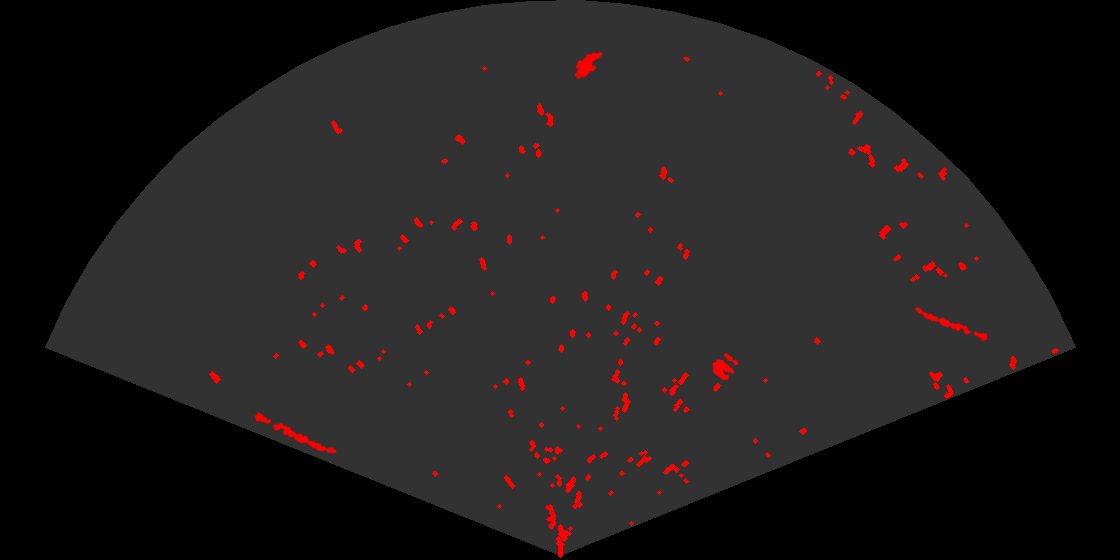AUV: (573, 50, 604, 81)
ball: (710, 352, 740, 382)
chain: (245, 408, 339, 455), (912, 306, 991, 343)
